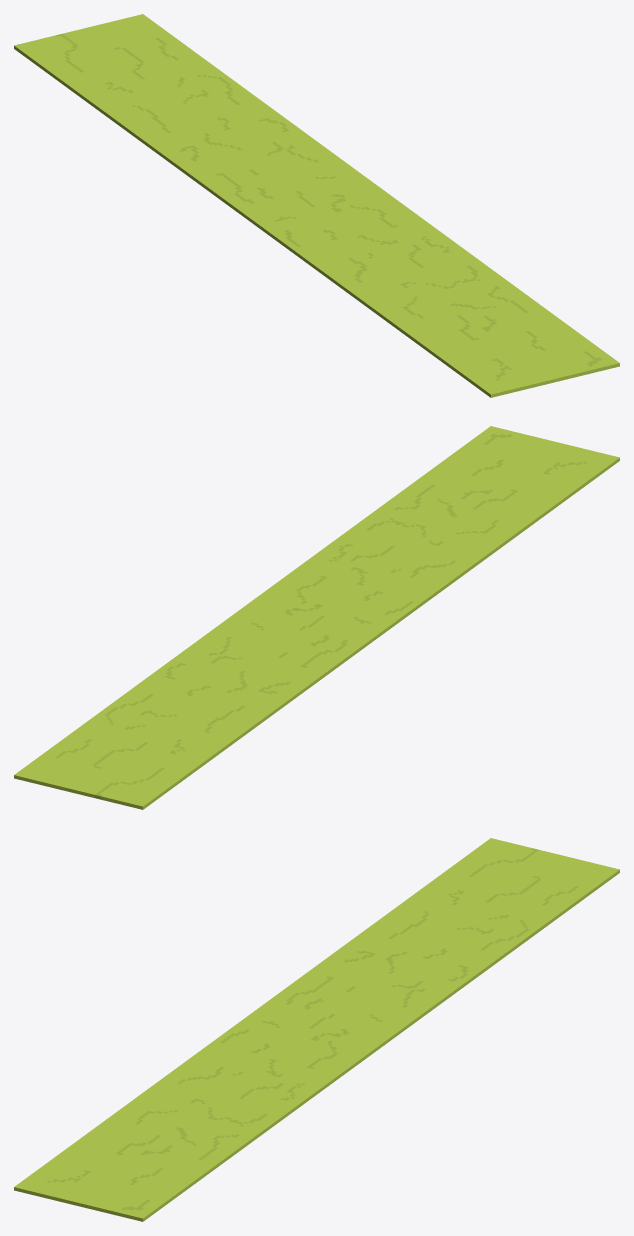
The model's file is road.obj.
3 renders of one model, top to bottom at view 1: azimuth 30°, elevation 25°; view 2: azimuth 150°, elevation 25°; view 3: azimuth 330°, elevation 25°, orthographic.
Bounding box in the file's own units: 4 × 0.1 × 25.6.
Materials: 1 (1 with a texture image).
